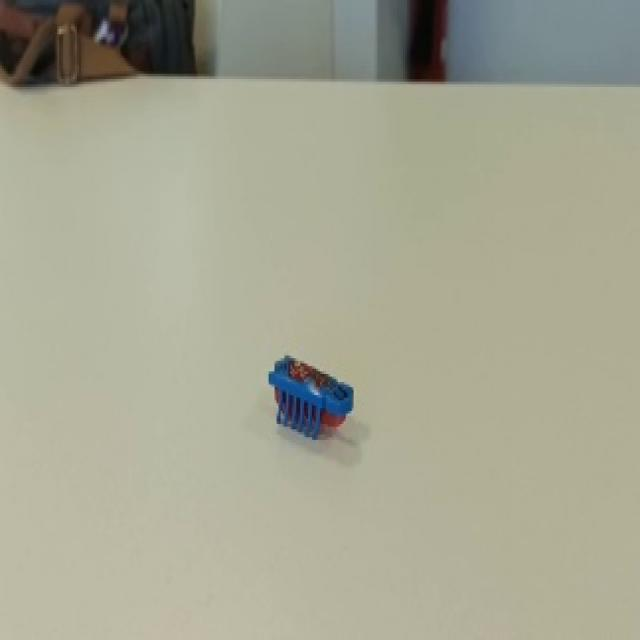1_NanoBug_Azul: (244, 330, 372, 461)
